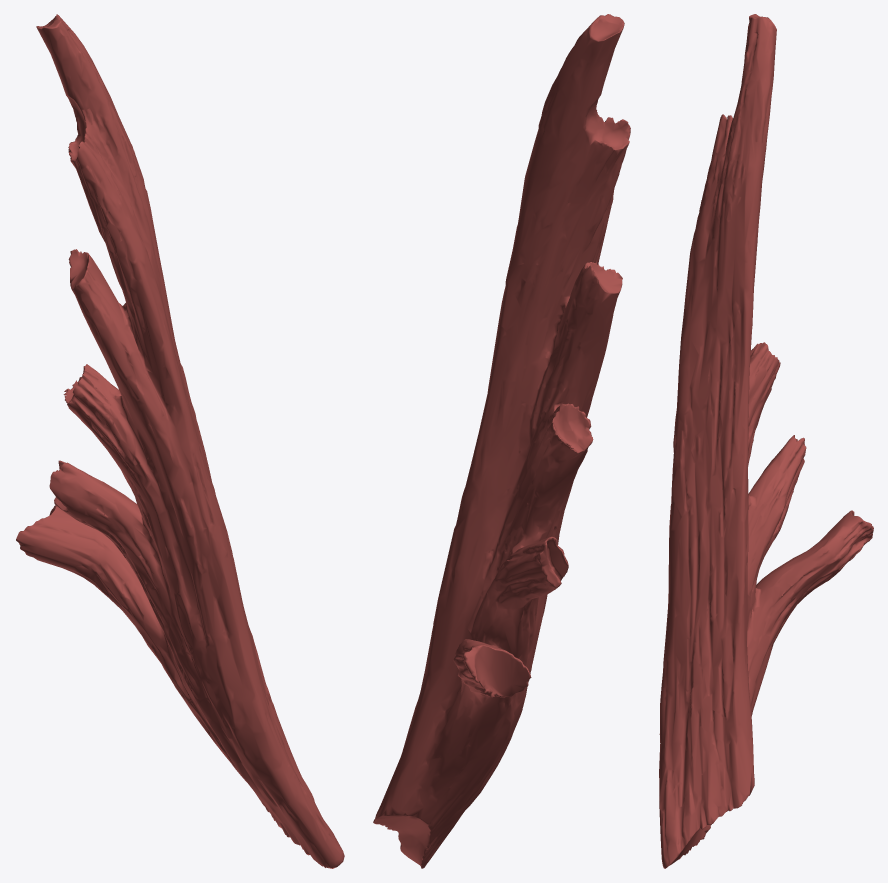
File: FMA13391.glb
3 views of the same model, side by side, from view 1: azimuth 30°, elevation 25°; view 2: azimuth 150°, elevation 25°; view 3: azimuth 270°, elevation 25° (orthographic). The views are drawn at different scales.
Visible parts, largest first — view 1: FMA13391; view 2: FMA13391; view 3: FMA13391.
Part boxes in pixels (box(x1,y1,x2,y2)): FMA13391: box(16, 14, 344, 868); FMA13391: box(373, 14, 630, 868); FMA13391: box(659, 14, 873, 868).
Bounding box in the file's own units: 0.029 × 0.0953 × 0.0245.
